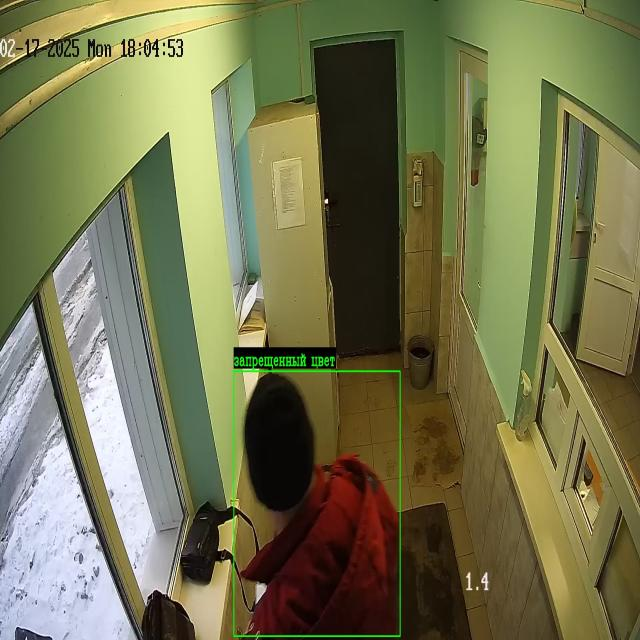Red uniform: (240, 374, 399, 635)
